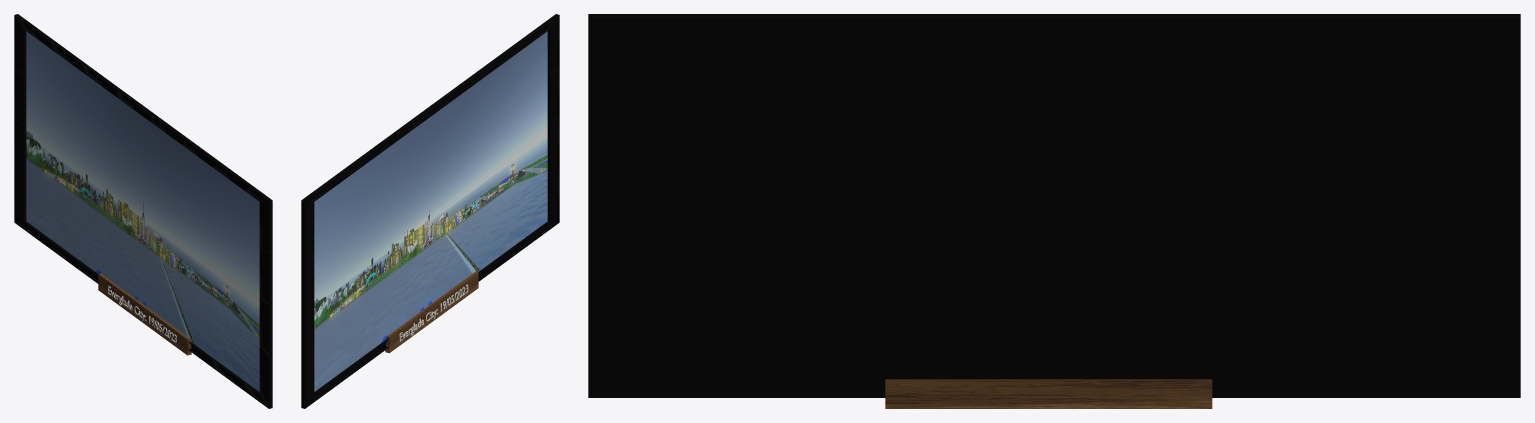
Rendered from EvergladeCityEasterEgg.fbx.
3 renders of one model, left to right at view 1: azimuth 30°, elevation 25°; view 2: azimuth 150°, elevation 25°; view 3: azimuth 270°, elevation 25°, orthographic. The views are drawn at different scales.
Visible parts, largest first — view 1: EvergladeCityMural, Text; view 2: EvergladeCityMural, Text; view 3: EvergladeCityMural.
Boxes of the visible parts, x1,y1,x2,y2 form: EvergladeCityMural: [14, 14, 272, 408]; Text: [108, 285, 176, 342]; EvergladeCityMural: [301, 14, 559, 408]; Text: [399, 284, 468, 341]; EvergladeCityMural: [588, 14, 1520, 408].
Size of the model in its own units: 3.07 by 132 by 285.
